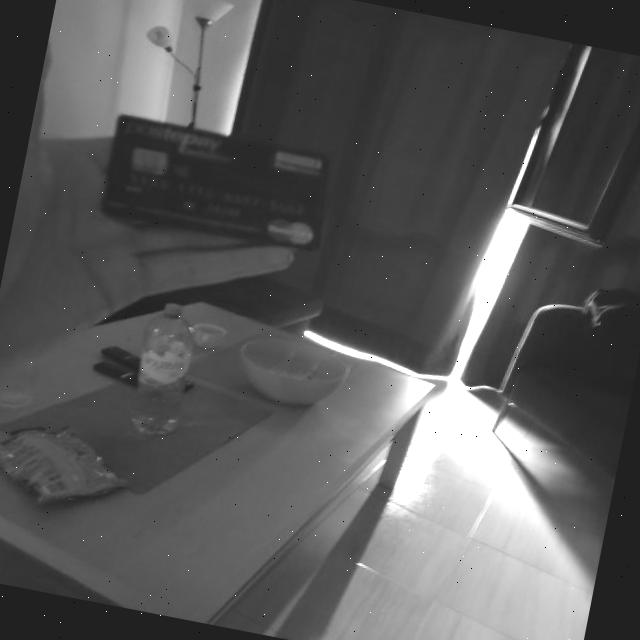card: (84, 105, 344, 258)
